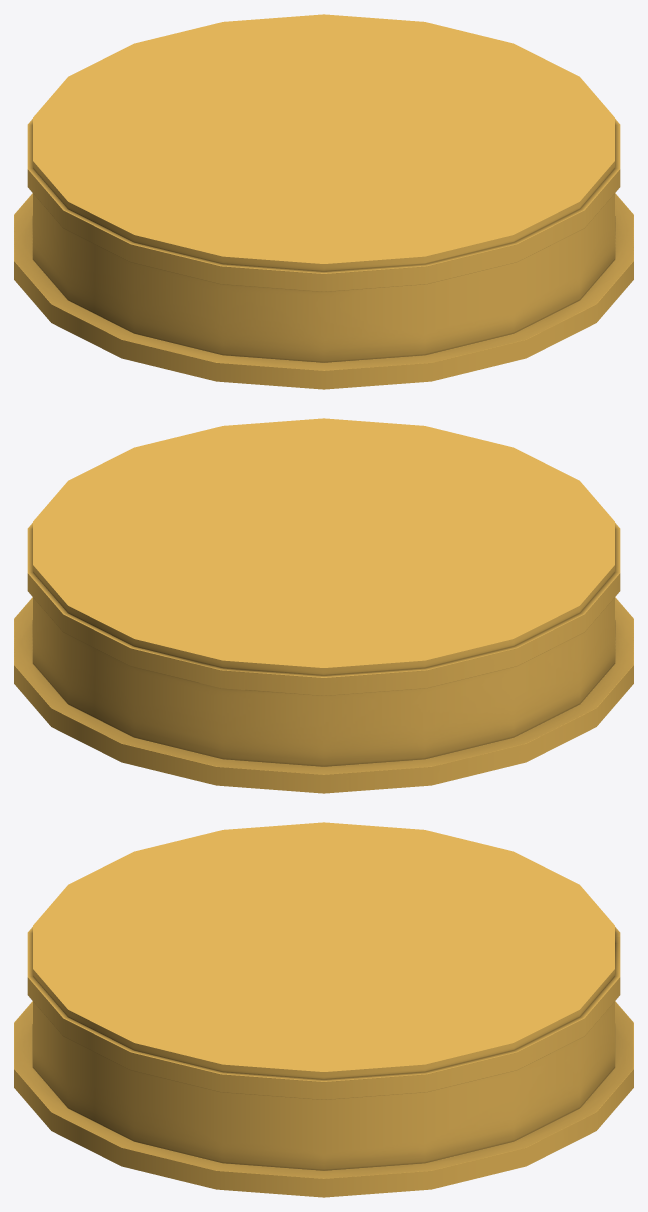
The model's file is NFL_BaseOro.fbx.
3 views of the same model, one above another, from view 1: azimuth 30°, elevation 25°; view 2: azimuth 150°, elevation 25°; view 3: azimuth 270°, elevation 25° (orthographic).
Visible parts, largest first — view 1: MOdulo centrale, modulo base, modulo superiore; view 2: MOdulo centrale, modulo base, modulo superiore; view 3: MOdulo centrale, modulo base, modulo superiore.
Boxes of the visible parts, left/top/right/bottom form: MOdulo centrale: left=33, top=14, right=614, bottom=362; modulo base: left=14, top=193, right=633, bottom=389; modulo superiore: left=27, top=119, right=620, bottom=291; MOdulo centrale: left=33, top=418, right=614, bottom=766; modulo base: left=14, top=597, right=633, bottom=793; modulo superiore: left=27, top=523, right=620, bottom=695; MOdulo centrale: left=33, top=822, right=614, bottom=1170; modulo base: left=14, top=1001, right=633, bottom=1197; modulo superiore: left=27, top=927, right=620, bottom=1099.
Bounding box in the file's own units: 190 × 39.11 × 187.
